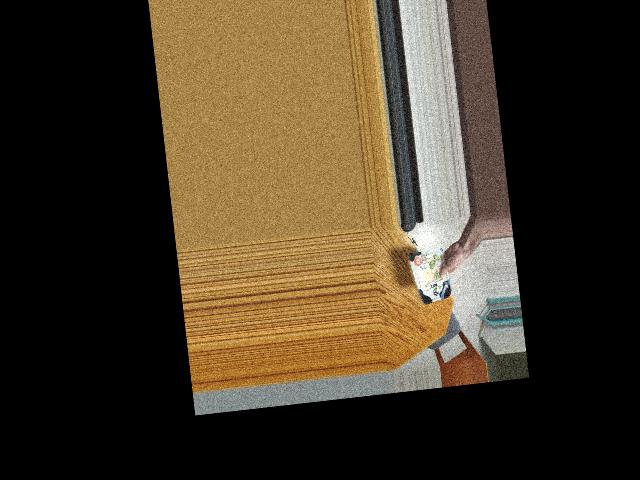cheese: (414, 251, 450, 303)
